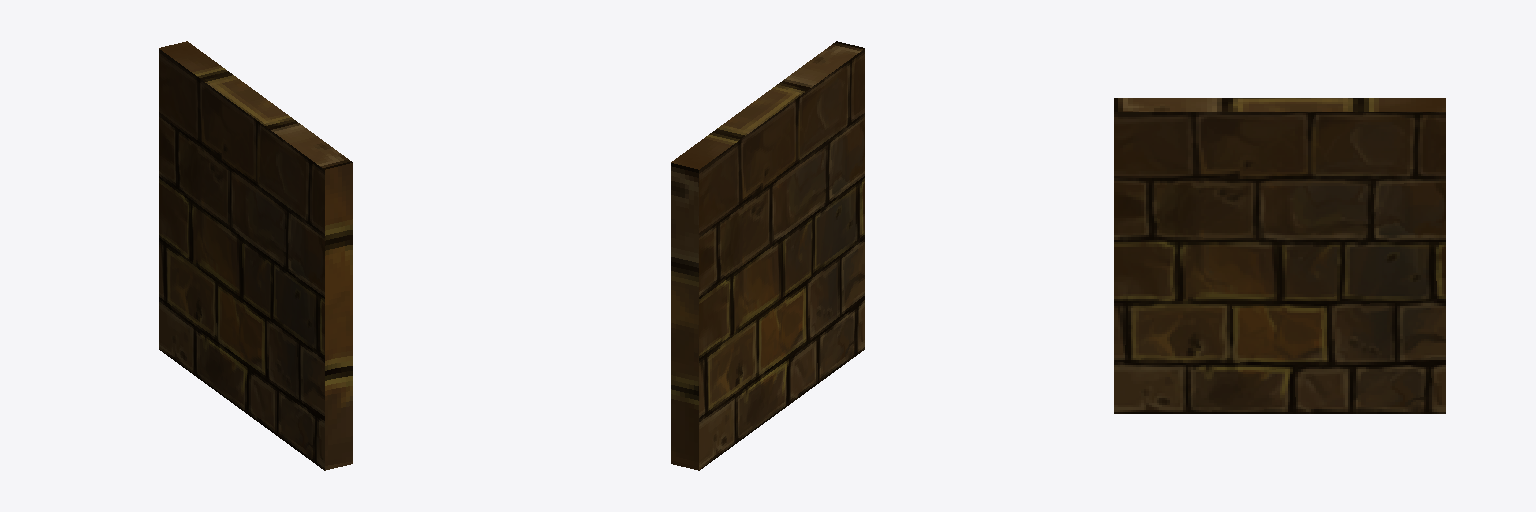
The picture shows the model from 3 angles: view 1: azimuth 30°, elevation 25°; view 2: azimuth 150°, elevation 25°; view 3: azimuth 270°, elevation 25°; orthographic projection.
Visible parts, largest first — view 1: pCube1; view 2: pCube1; view 3: pCube1.
Part boxes in pixels (left/top/right/bottom): pCube1: left=159, top=41, right=352, bottom=470; pCube1: left=671, top=41, right=864, bottom=470; pCube1: left=1114, top=98, right=1445, bottom=413.
Size of the model in its own units: 0.2 by 2 by 2.
1 materials, 1 textured.